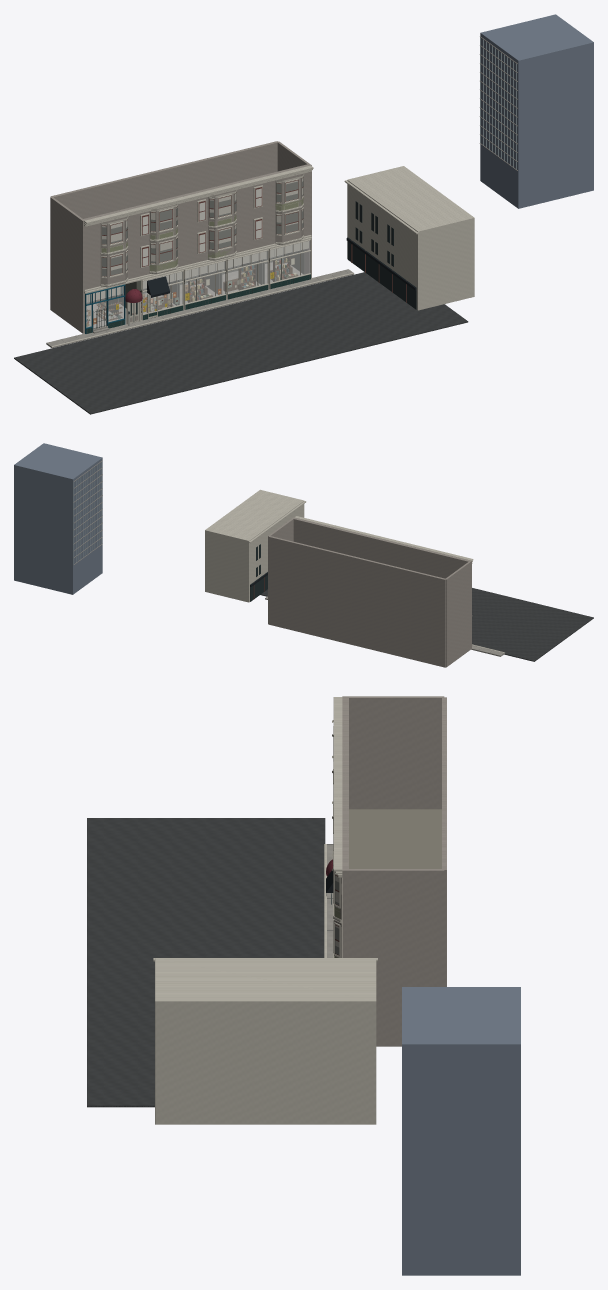
The picture shows the model from 3 angles, top to bottom: view 1: azimuth 30°, elevation 25°; view 2: azimuth 150°, elevation 25°; view 3: azimuth 270°, elevation 25°; orthographic projection. The views are drawn at different scales.
Visible parts, largest first — view 1: Road below curb, Distant tower, Neighbour across-street mass, Upper timber facade, Rear wall, Side return (×2), Shop glass pane (×3), Walkway to continuous facade, Continuous cornice (×2), Neighbour ground-floor shop, Shop floor, Curb coping (+1 smaller); view 2: Rear wall, Distant tower, Neighbour across-street mass, Road below curb, Upper timber facade, Side return (×2), Continuous cornice; view 3: Road below curb, Neighbour across-street mass, Distant tower, Side return (×2), Shop ceiling, Continuous cornice, Rear wall, Upper timber facade.
Part boxes in pixels (x1,y1,x2,y2): Road below curb: (14,272,468,414); Distant tower: (480,14,593,208); Neighbour across-street mass: (347,166,474,310); Upper timber facade: (82,164,310,289); Rear wall: (50,141,278,218); Side return (×2): (50,141,311,333); Shop glass pane (×3): (185,241,309,302); Walkway to continuous facade: (46,269,353,348); Continuous cornice (×2): (84,165,313,293); Neighbour ground-floor shop: (347,237,416,309); Shop floor: (119,261,303,323); Curb coping: (51,272,354,347); Rear wall: (268,536,445,667); Distant tower: (14,443,102,594); Neighbour across-street mass: (205,489,304,602); Road below curb: (260,588,593,661); Upper timber facade: (293,517,470,578); Side return (×2): (268,517,471,667); Continuous cornice: (294,516,473,560); Road below curb: (87,818,325,1107); Neighbour across-street mass: (155,958,376,1124); Distant tower: (402,987,520,1275); Side return (×2): (342,696,444,1046); Shop ceiling: (349,809,441,868); Continuous cornice: (333,697,342,871); Rear wall: (442,697,446,986); Upper timber facade: (342,697,348,869).
Size of what is drawn, in the model's own units: 64 by 15.28 by 25.5.
